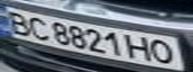1: (103, 29, 124, 56)
2: (84, 26, 106, 54)
8: (48, 19, 72, 46), (66, 24, 87, 51)
B: (0, 9, 36, 35)
C: (24, 15, 54, 40)
H: (124, 33, 157, 61)
O: (145, 37, 181, 65)
